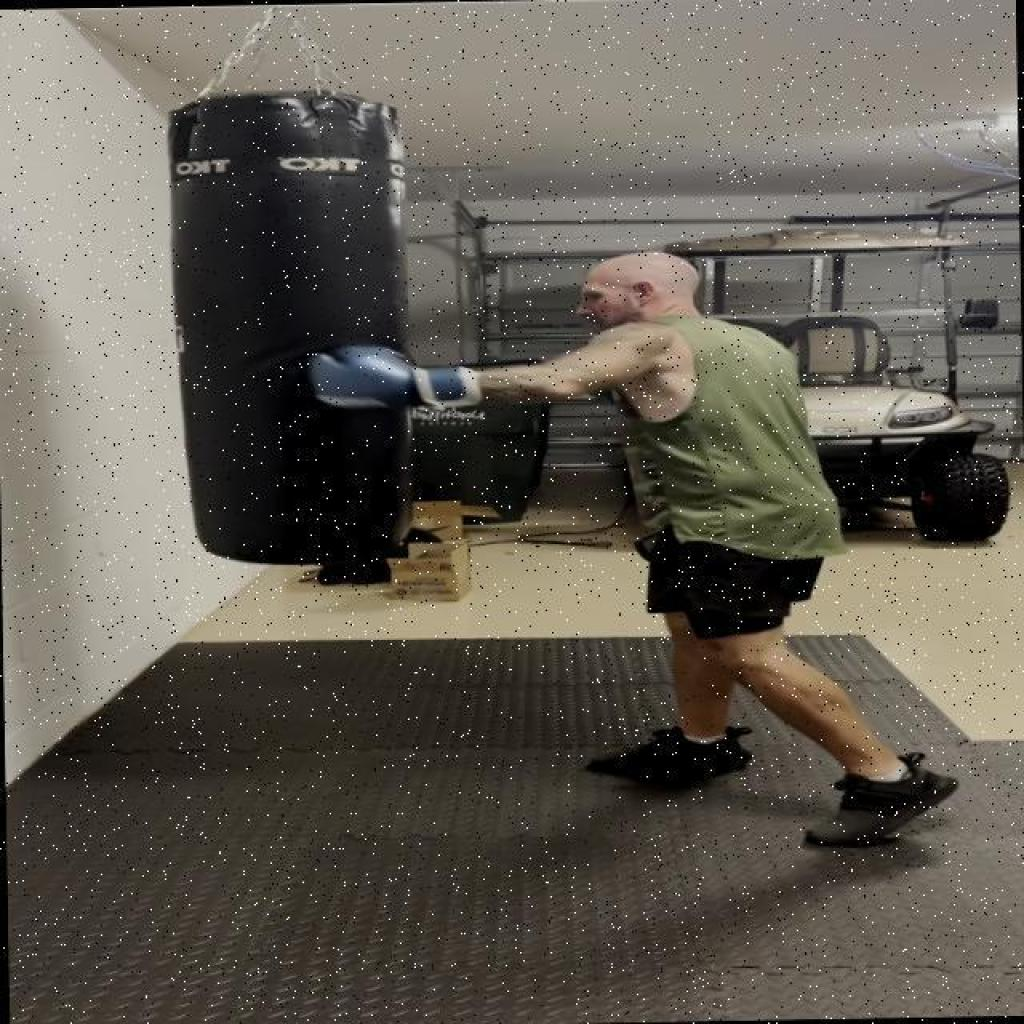bag: (149, 75, 429, 578)
hook: (299, 230, 829, 477)
